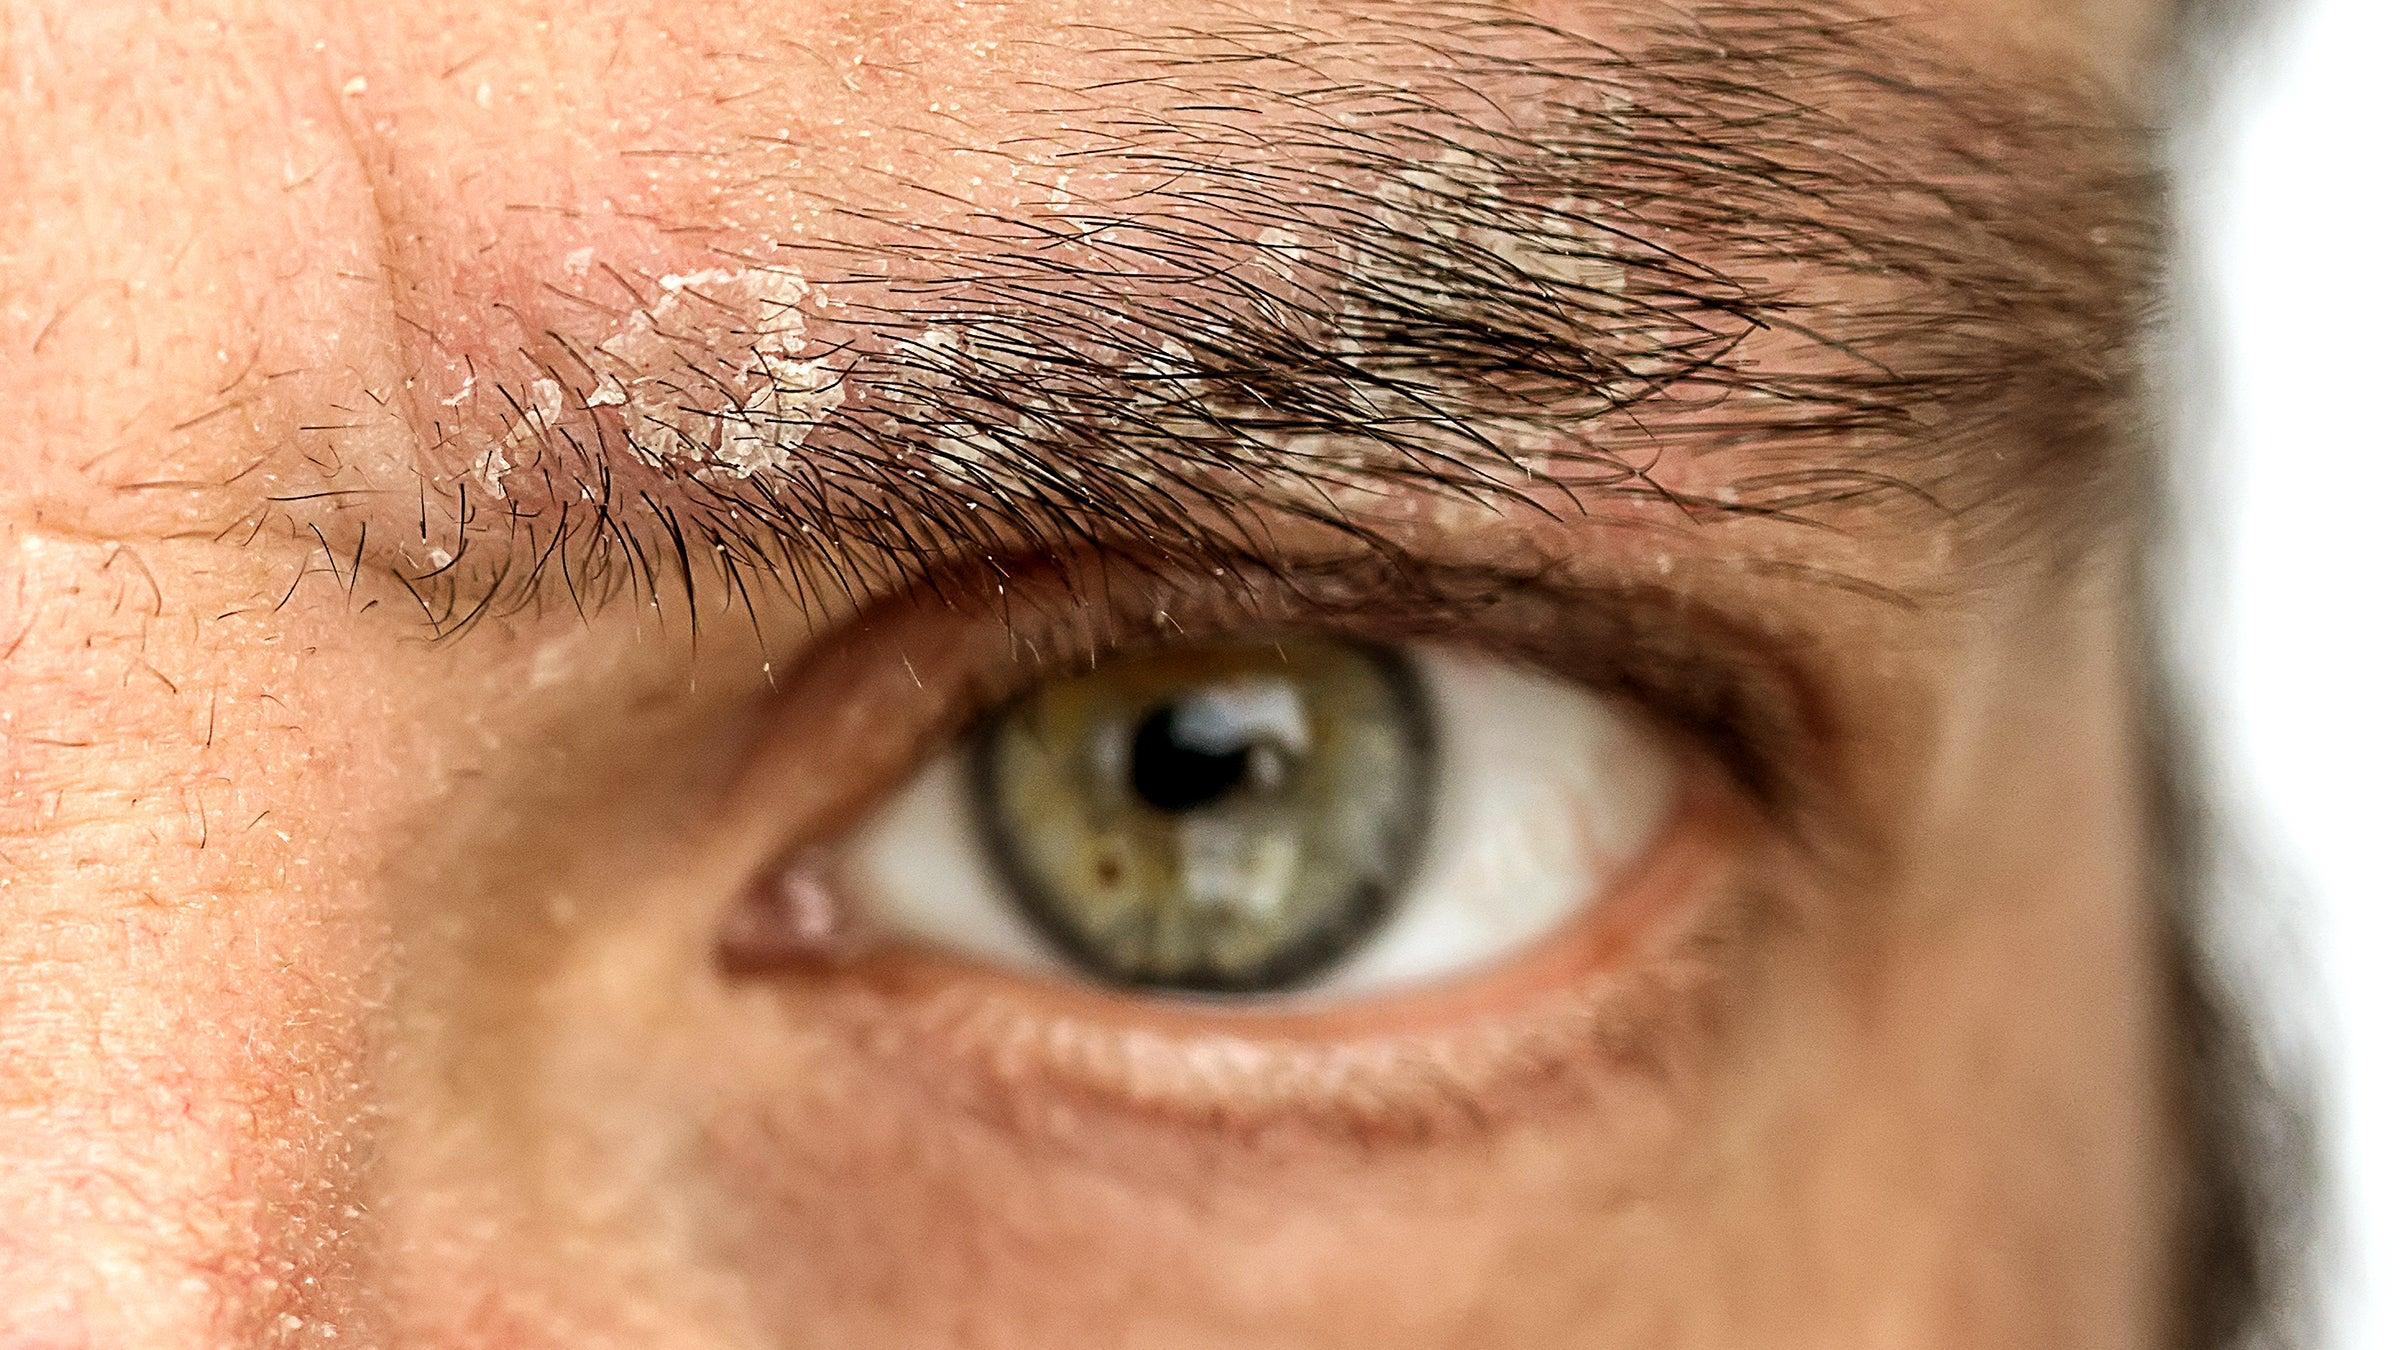Dry-Skin: (391, 185, 2031, 569)
